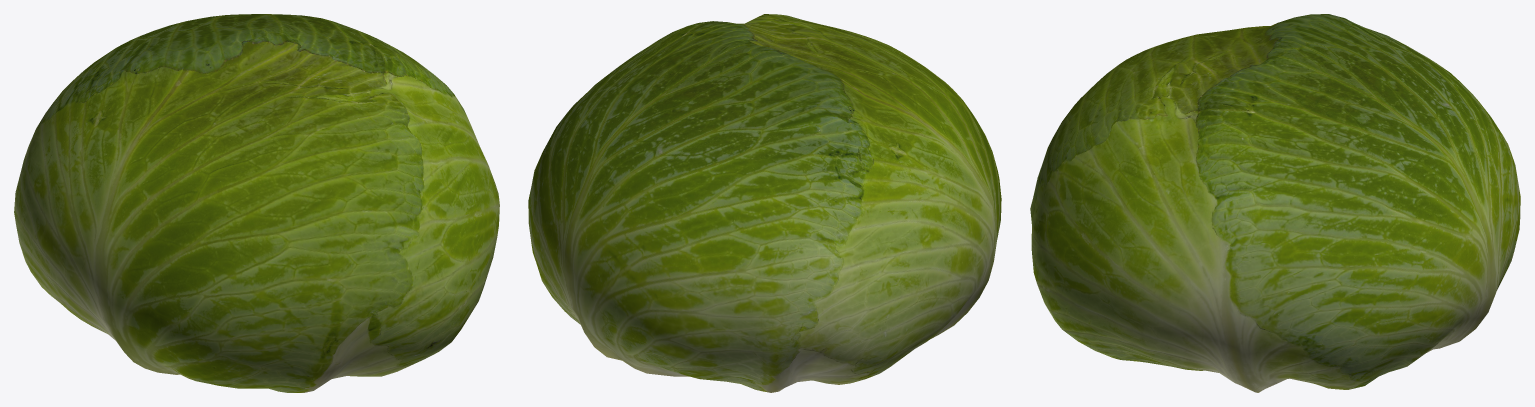
Rendered from Cabbage.gltf.
3 renders of one model, left to right at view 1: azimuth 30°, elevation 25°; view 2: azimuth 150°, elevation 25°; view 3: azimuth 270°, elevation 25°, orthographic.
Visible parts, largest first — view 1: Cabbage; view 2: Cabbage; view 3: Cabbage.
Part boxes in pixels (bbox=[...]): Cabbage: bbox=[14, 14, 499, 392]; Cabbage: bbox=[528, 14, 1001, 392]; Cabbage: bbox=[1030, 14, 1520, 392].
Size of the model in its own units: 16.88 by 12.21 by 17.49.
Materials: 1 (1 with a texture image).
